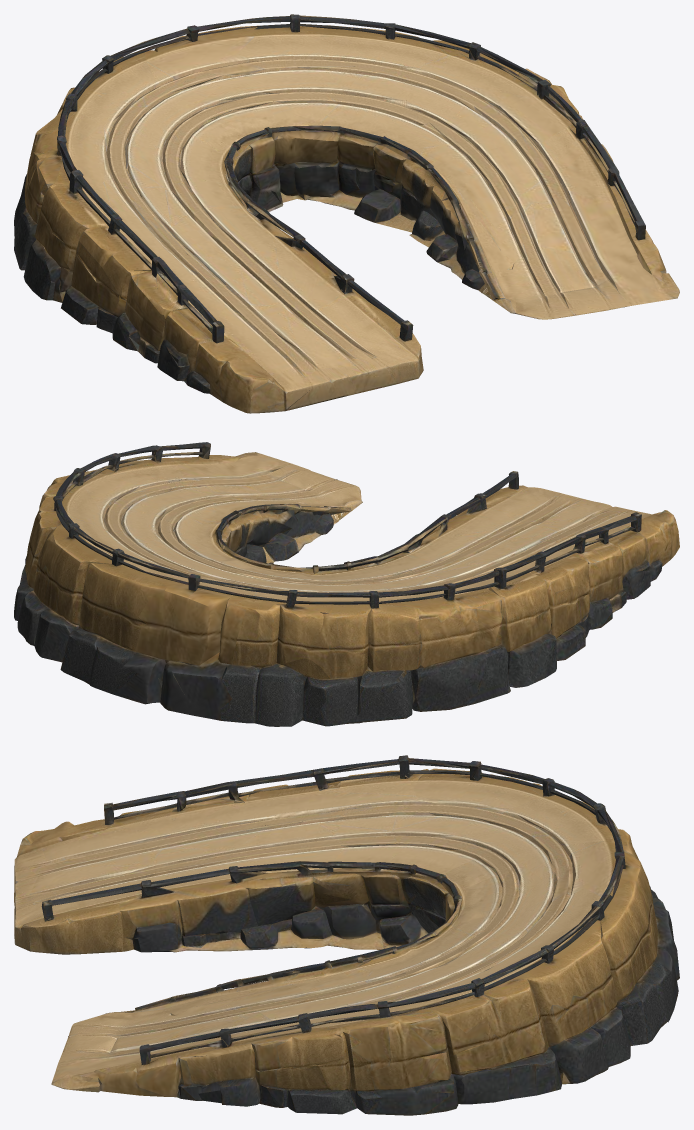
File: hairpin-turn.glb
The picture shows the model from 3 angles, top to bottom: view 1: azimuth 30°, elevation 25°; view 2: azimuth 150°, elevation 25°; view 3: azimuth 270°, elevation 25°; orthographic projection. The views are drawn at different scales.
Size of the model in its own units: 1.84 by 0.3984 by 1.9.
1 material, 1 textured.
